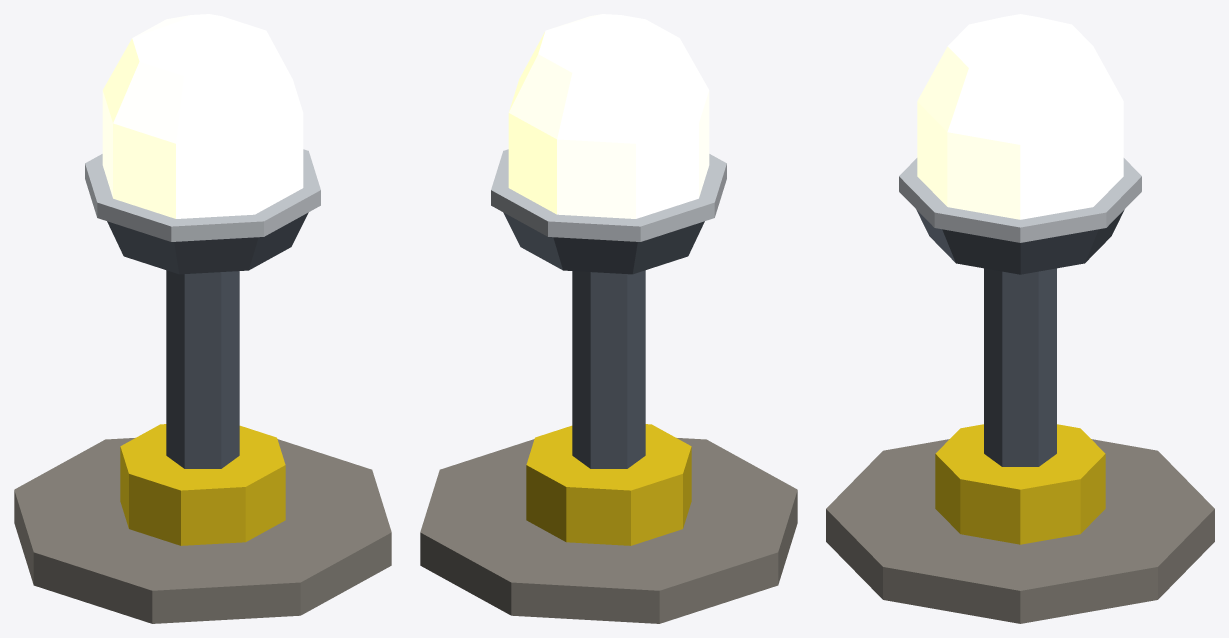
File: runway_light.glb
The picture shows the model from 3 angles, left to right: view 1: azimuth 30°, elevation 25°; view 2: azimuth 150°, elevation 25°; view 3: azimuth 270°, elevation 25°; orthographic projection.
Parts seen in each view (by area): view 1: Body; view 2: Body; view 3: Body.
Boxes of the visible parts, x1,y1,x2,y2 form: Body: (14, 14, 391, 623); Body: (420, 14, 797, 623); Body: (826, 14, 1214, 623).
Size of the model in its own units: 0.32 by 0.47 by 0.32.
